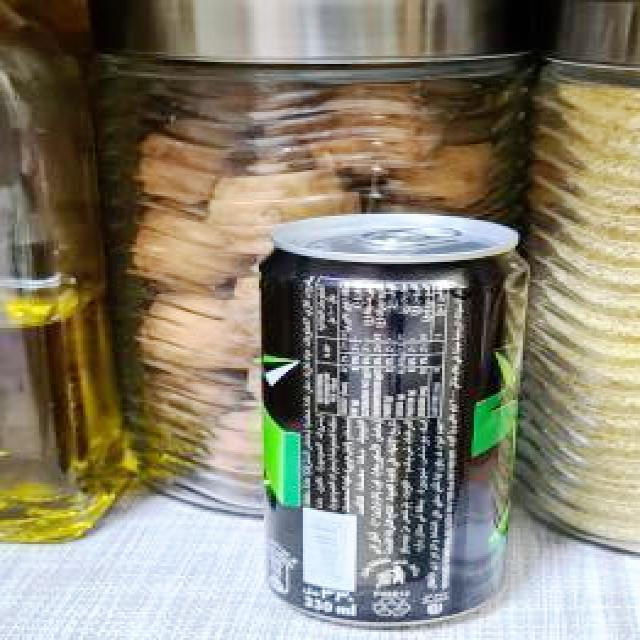Lata: (261, 214, 525, 620)
